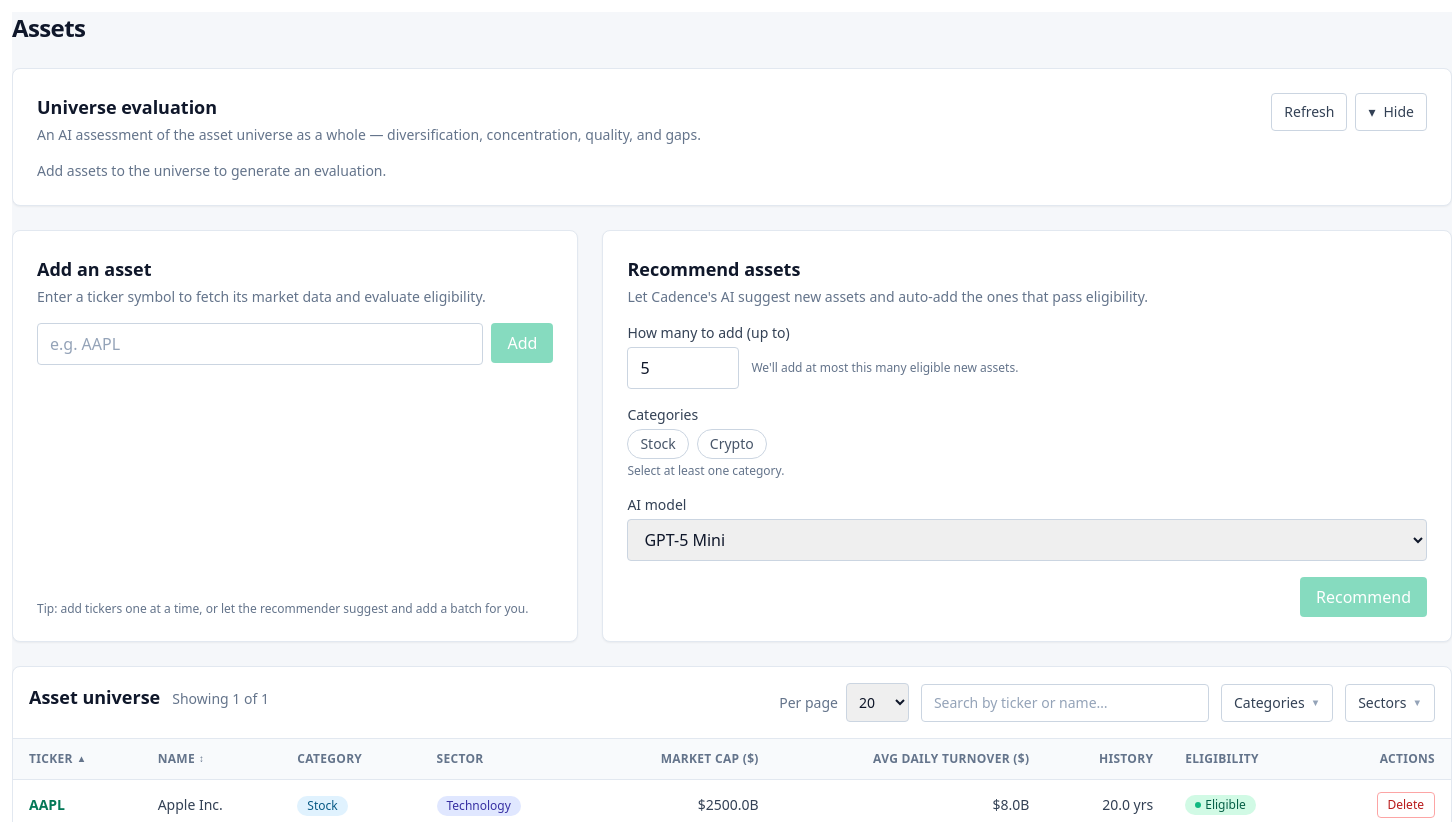
Scenario: AssetsPage › surfaces a specific message when adding a duplicate ticker (409)
Type "AAPL" into the field named "Ticker symbol" at (260, 344), box [37,323,484,365]
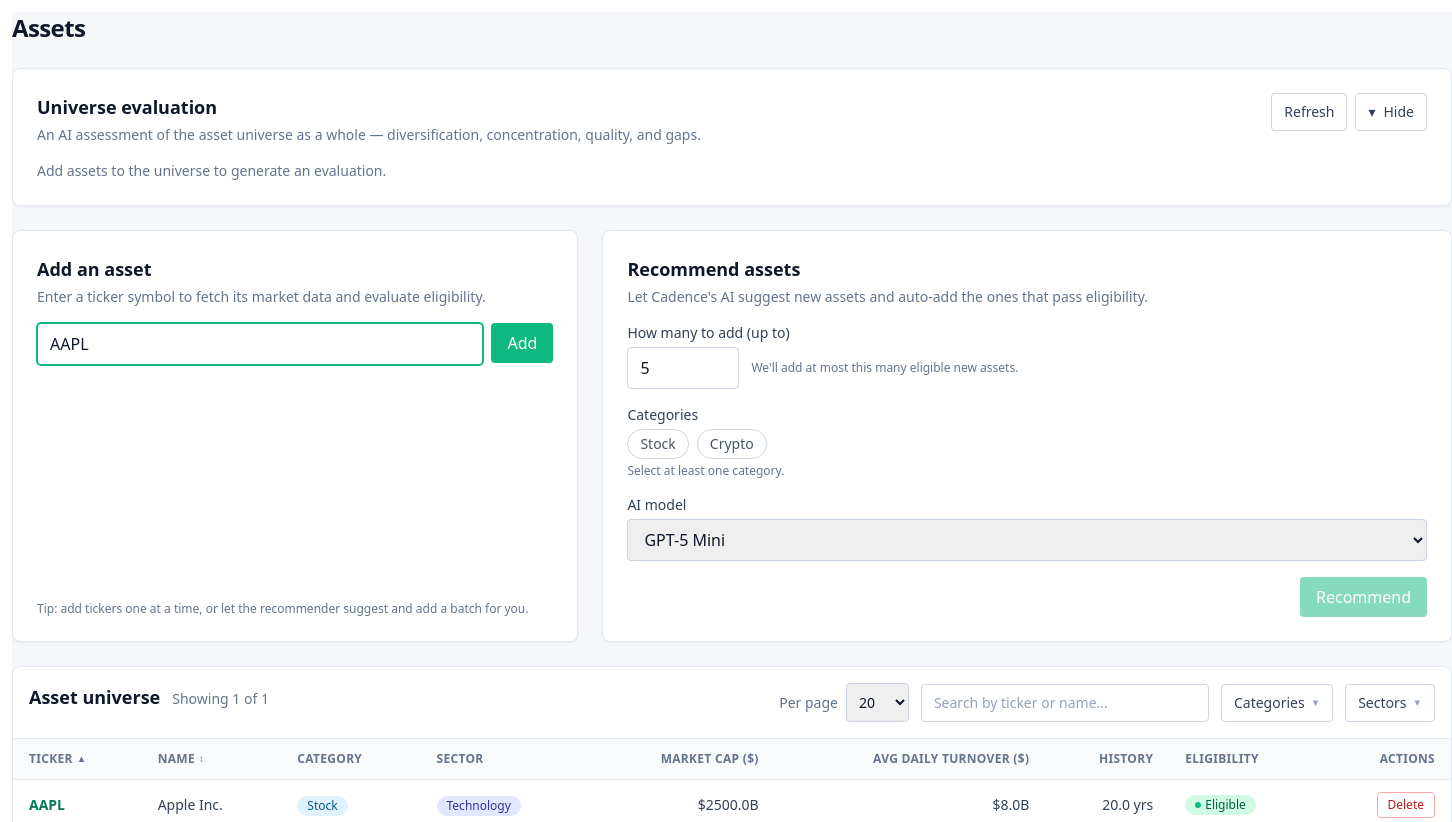
Click the button "Add" at (522, 343), box [492,323,553,363]
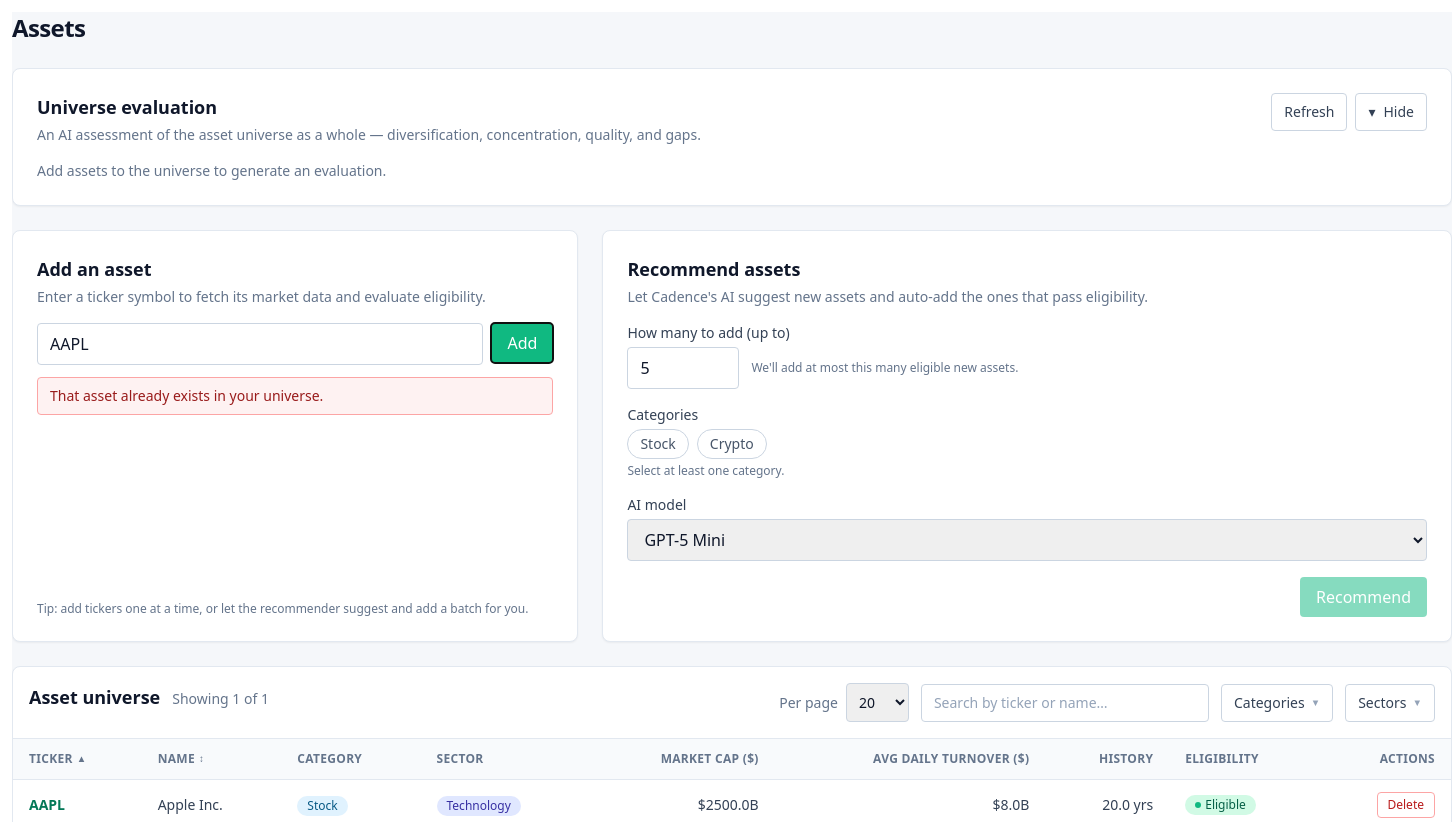
Check: the text "That asset already exists in your universe." is shown, box [37,377,553,415]
